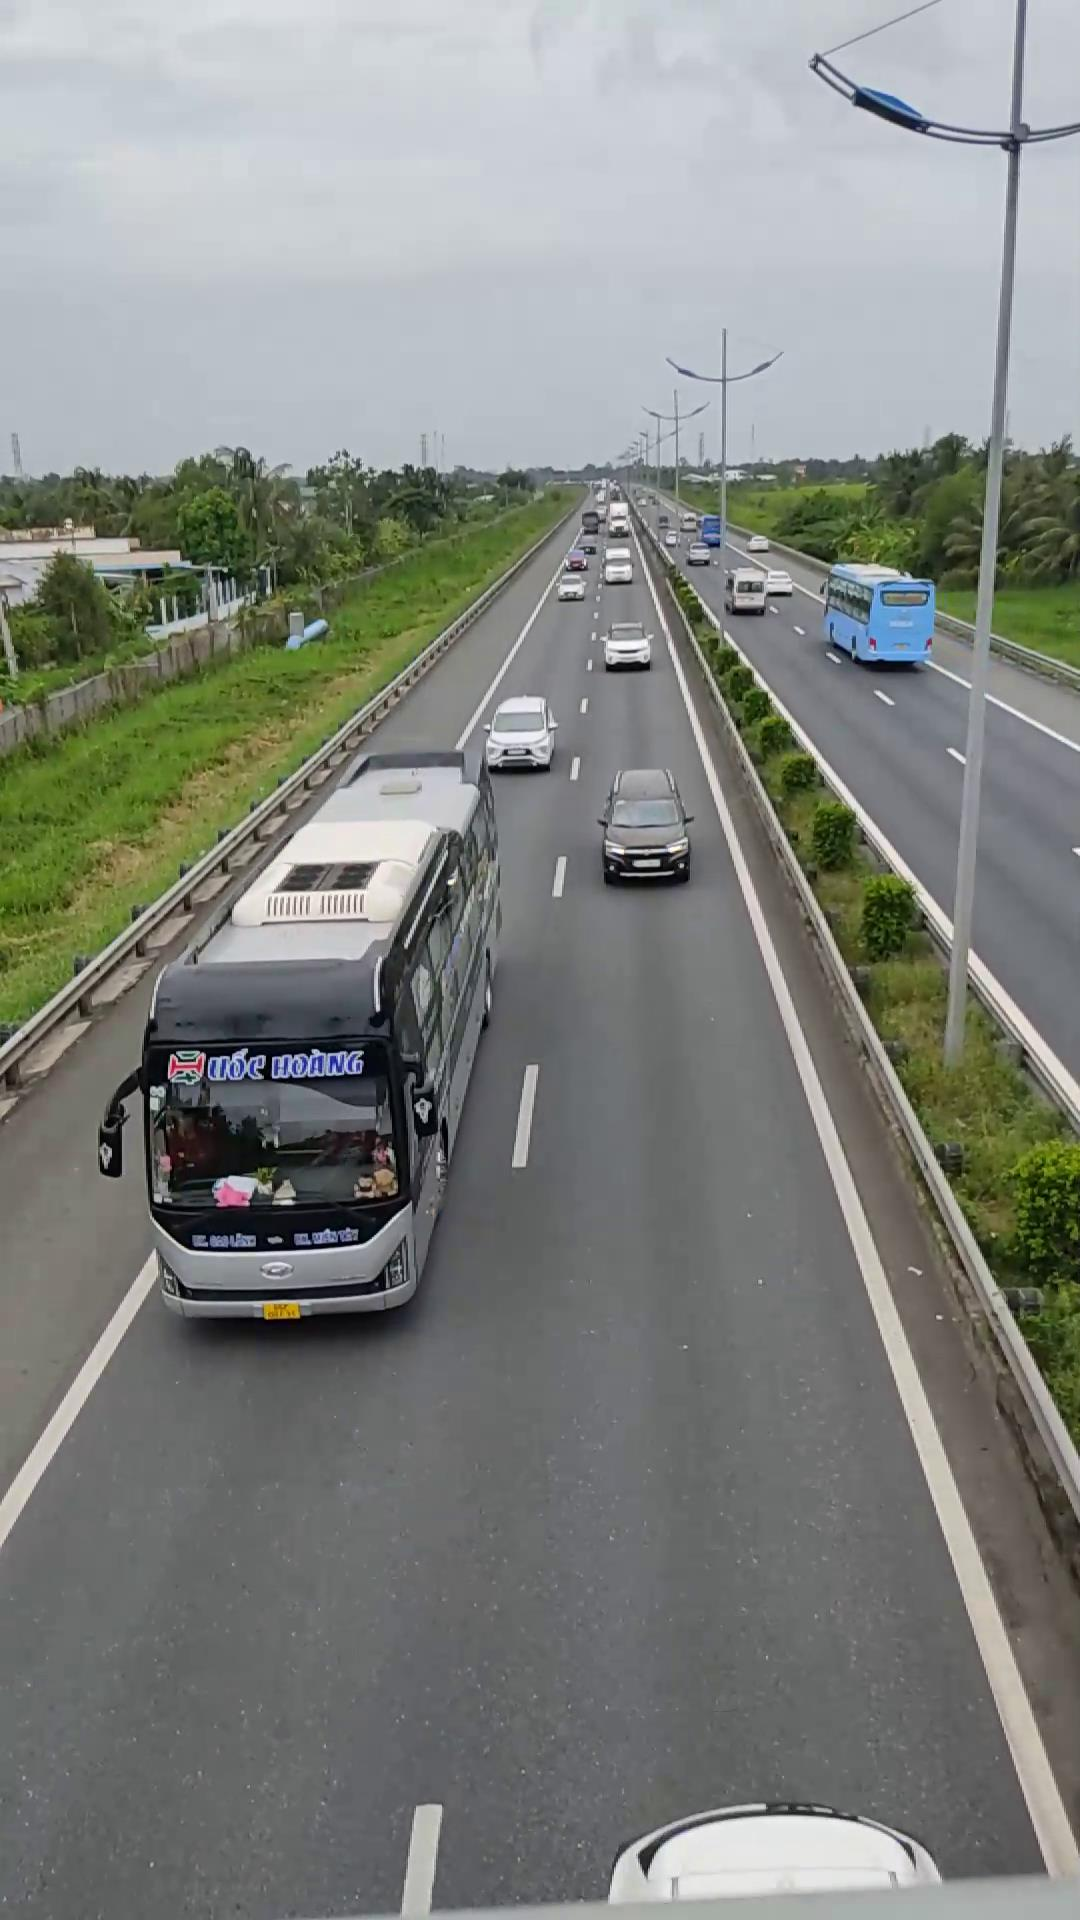bus: (125, 731, 496, 1329)
car: (596, 767, 694, 884), (477, 694, 556, 771)
